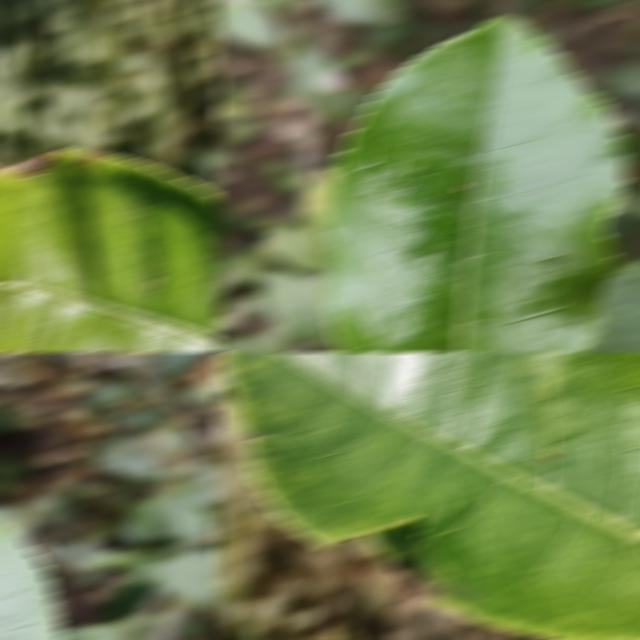Leaf: (219, 352, 640, 640), (324, 17, 627, 352), (0, 148, 220, 352), (259, 270, 335, 342), (135, 549, 220, 613), (287, 52, 349, 110), (144, 490, 210, 544), (214, 0, 283, 50), (258, 225, 331, 271), (91, 436, 161, 480), (315, 0, 400, 25), (151, 352, 201, 379)
